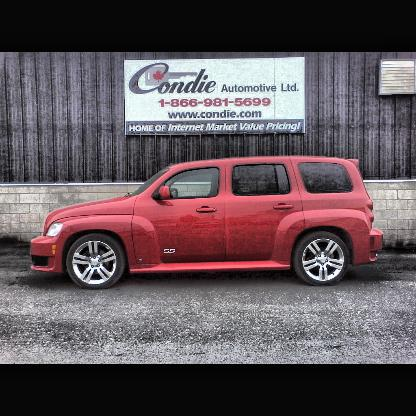Chevrolet HHR SS 2010: (29, 154, 387, 292)
